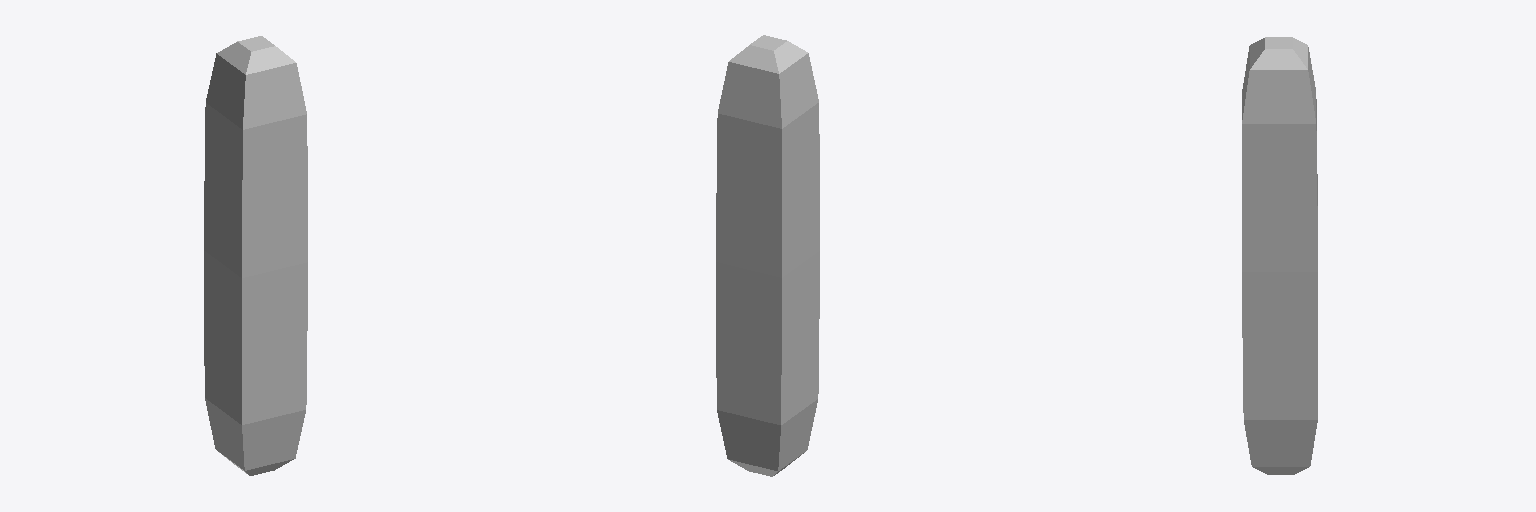
Rendered from Spine.obj.
The picture shows the model from 3 angles: view 1: azimuth 30°, elevation 25°; view 2: azimuth 150°, elevation 25°; view 3: azimuth 270°, elevation 25°; orthographic projection.
Visible parts, largest first — view 1: ../rami/model/Spine; view 2: ../rami/model/Spine; view 3: ../rami/model/Spine.
Boxes of the visible parts, x1,y1,x2,y2 form: ../rami/model/Spine: [204, 36, 307, 475]; ../rami/model/Spine: [716, 35, 819, 476]; ../rami/model/Spine: [1242, 37, 1317, 474].
Size of the model in its own units: 0.042 by 0.2569 by 0.042.